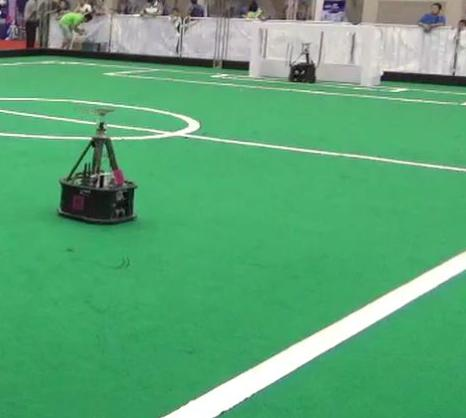robot: (54, 99, 145, 227)
